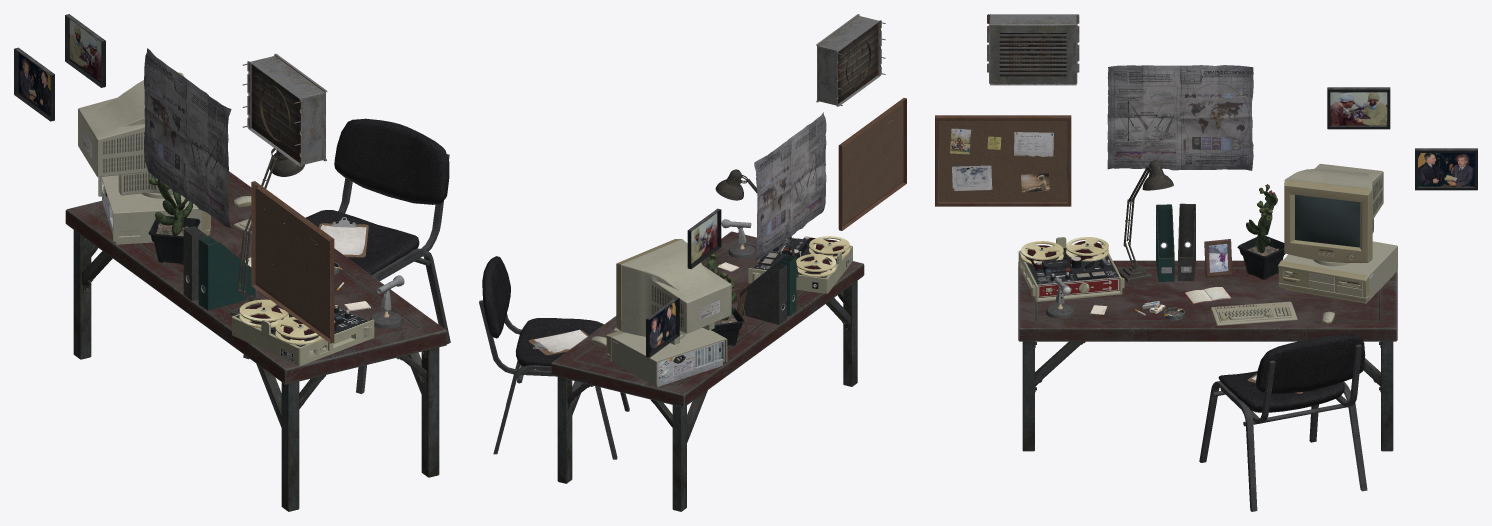
Rendered from optimized_office.gltf.
3 renders of one model, left to right at view 1: azimuth 30°, elevation 25°; view 2: azimuth 150°, elevation 25°; view 3: azimuth 270°, elevation 25°, orthographic. The views are drawn at different scales.
Visible parts, largest first — view 1: Table_Rough_32, Chair_51, Poster_Crumpled_45, PinBoard_24, Vent_44, Monitor_6, TapeRecorder_33, Computer_5, FileBox_Green_8, PhotoFrame1_47, PhotoFrame2_46, FileBox_Black_7 (+5 smaller); view 2: Table_Rough_32, Monitor_6, Poster_Crumpled_45, PinBoard_24, Chair_51, Computer_5, Vent_44, TapeRecorder_33, FileBox_Black_7, PhotoFrame1_47, PhotoFrame2_46, FileBox_Green_8 (+4 smaller); view 3: Table_Rough_32, Poster_Crumpled_45, Chair_51, PinBoard_24, Monitor_6, TapeRecorder_33, Computer_5, PhotoFrame1_47, PhotoFrame2_46, Vent_44, Vent_Cover_Frame_43, Vent_Cover_39 (+11 smaller).
Boxes of the visible parts, x1,y1,x2,y2 form: Table_Rough_32: [65, 171, 447, 511]; Chair_51: [243, 118, 450, 393]; Poster_Crumpled_45: [144, 48, 231, 228]; PinBoard_24: [251, 181, 334, 343]; Vent_44: [247, 53, 327, 166]; Monitor_6: [78, 72, 184, 198]; TapeRecorder_33: [232, 299, 374, 366]; Computer_5: [98, 175, 210, 244]; FileBox_Green_8: [198, 235, 255, 310]; PhotoFrame1_47: [65, 14, 105, 87]; PhotoFrame2_46: [14, 47, 54, 121]; FileBox_Black_7: [183, 226, 206, 300]; Table_Rough_32: [551, 231, 864, 511]; Monitor_6: [616, 239, 731, 344]; Poster_Crumpled_45: [754, 112, 826, 260]; PinBoard_24: [838, 98, 906, 230]; Chair_51: [479, 256, 629, 459]; Computer_5: [605, 327, 727, 386]; Vent_44: [816, 14, 881, 106]; TapeRecorder_33: [748, 236, 852, 293]; FileBox_Black_7: [740, 263, 786, 324]; PhotoFrame1_47: [687, 208, 721, 269]; PhotoFrame2_46: [646, 297, 679, 357]; FileBox_Green_8: [751, 254, 796, 316]; Table_Rough_32: [1018, 260, 1397, 451]; Poster_Crumpled_45: [1107, 65, 1253, 170]; Chair_51: [1199, 333, 1367, 511]; PinBoard_24: [935, 115, 1071, 206]; Monitor_6: [1284, 163, 1383, 266]; TapeRecorder_33: [1018, 237, 1124, 301]; Computer_5: [1278, 241, 1397, 303]; PhotoFrame1_47: [1327, 87, 1390, 129]; PhotoFrame2_46: [1415, 148, 1477, 190]; Vent_44: [987, 14, 1079, 85]; Vent_Cover_Frame_43: [990, 26, 1075, 83]; Vent_Cover_39: [999, 34, 1066, 74].
Bounding box in the file's own units: 1.72 × 2.18 × 2.89.
14 materials, 14 textured.
